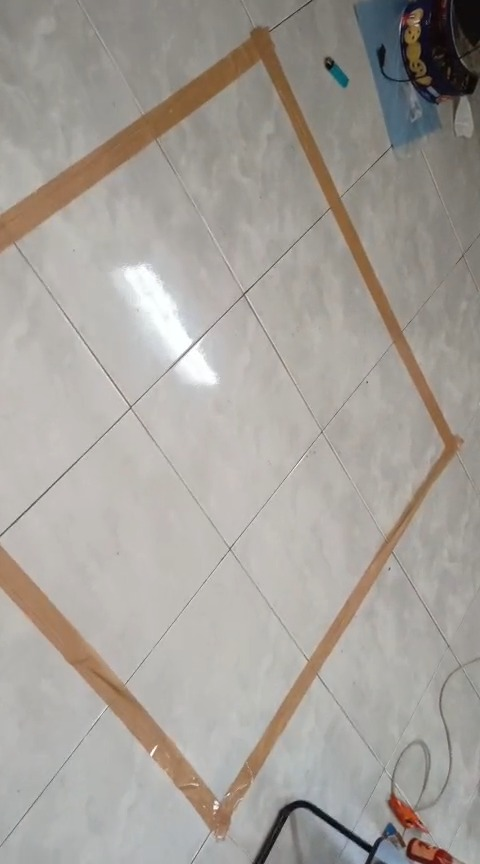floor marking: (1, 28, 461, 836)
